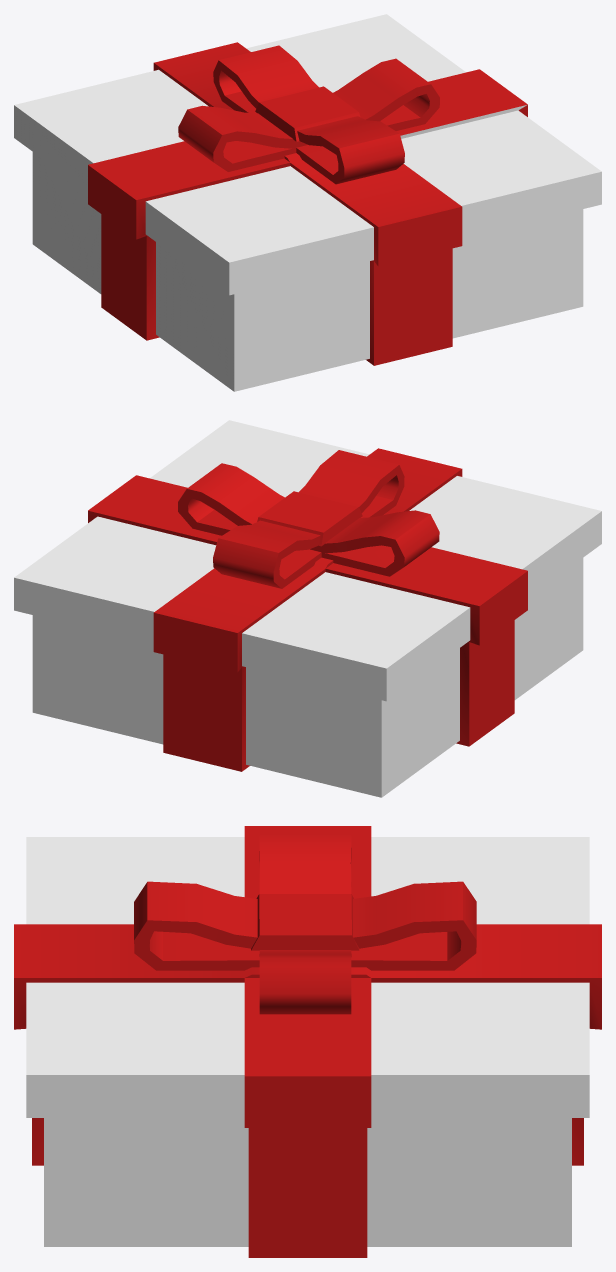
File: Giftbox1-2.fbx
3 renders of one model, top to bottom at view 1: azimuth 30°, elevation 25°; view 2: azimuth 150°, elevation 25°; view 3: azimuth 270°, elevation 25°, orthographic. The views are drawn at different scales.
Parts seen in each view (by area): view 1: Box015; view 2: Box015; view 3: Box015.
Boxes of the visible parts, box(x1,y1,x2,y2) form: Box015: box(14, 14, 601, 391); Box015: box(14, 420, 601, 797); Box015: box(14, 826, 601, 1257).
Size of the model in its own units: 21.21 by 9.47 by 21.06.
